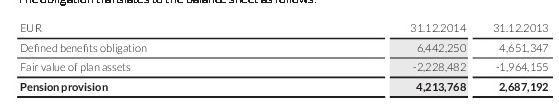table: (0, 0, 559, 108)
